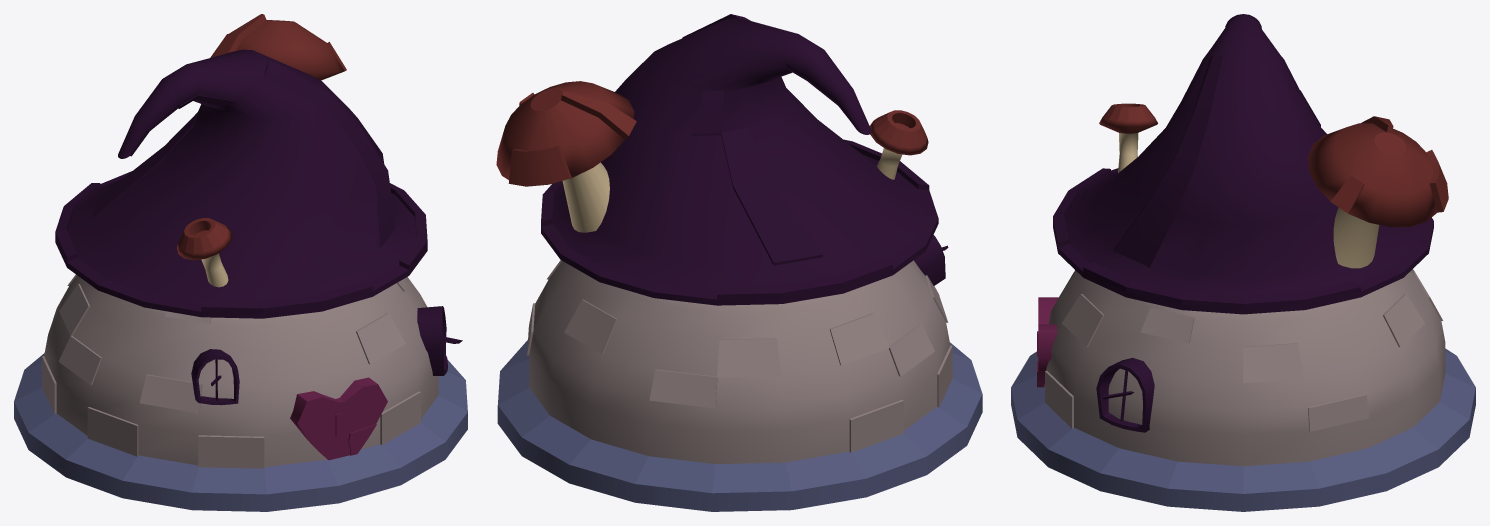
The model's file is shop export.fbx.
3 renders of one model, left to right at view 1: azimuth 30°, elevation 25°; view 2: azimuth 150°, elevation 25°; view 3: azimuth 270°, elevation 25°, orthographic. The views are drawn at different scales.
Parts seen in each view (by area): view 1: house, door, mushroomback, chimney, window1, window; view 2: house, mushroomback, chimney, window; view 3: house, mushroomback, window1, chimney, door.
Boxes of the visible parts, x1,y1,x2,y2 form: house: [14, 49, 467, 511]; door: [290, 377, 387, 460]; mushroomback: [210, 14, 346, 80]; chimney: [177, 218, 232, 287]; window1: [417, 306, 447, 375]; window: [191, 349, 239, 405]; house: [497, 14, 982, 511]; mushroomback: [496, 81, 636, 232]; chimney: [870, 110, 928, 179]; window: [914, 235, 945, 285]; house: [1011, 14, 1475, 511]; mushroomback: [1307, 116, 1448, 268]; window1: [1096, 357, 1154, 432]; chimney: [1099, 103, 1157, 172]; door: [1037, 297, 1058, 387].
Size of the model in its own units: 181 by 160 by 181.
